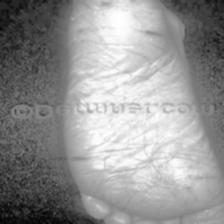Non-Cancerous Skin Condition: (187, 168, 218, 196), (144, 24, 170, 46), (71, 156, 89, 162)
